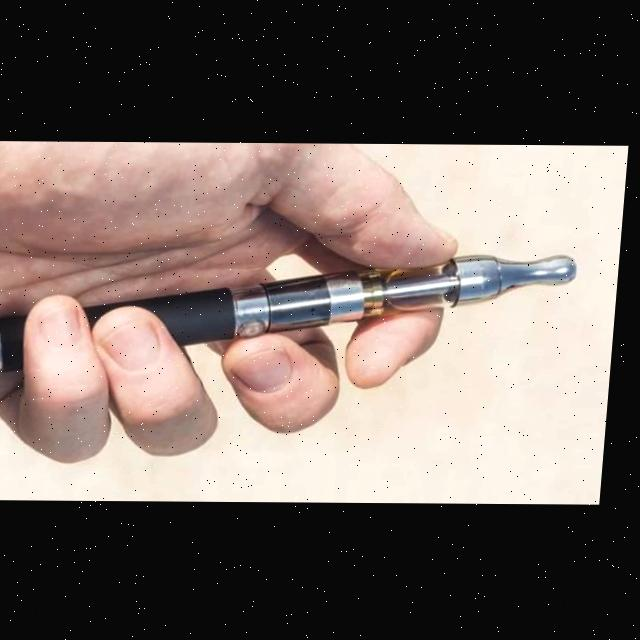vape: (0, 249, 583, 375)
